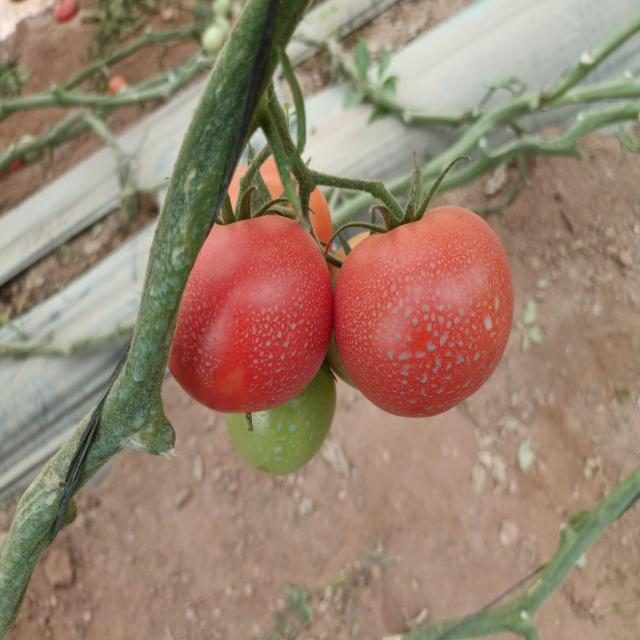Ripe Tomato: (334, 206, 514, 414), (160, 212, 333, 415)
Unripe Tomato: (224, 368, 336, 477)
